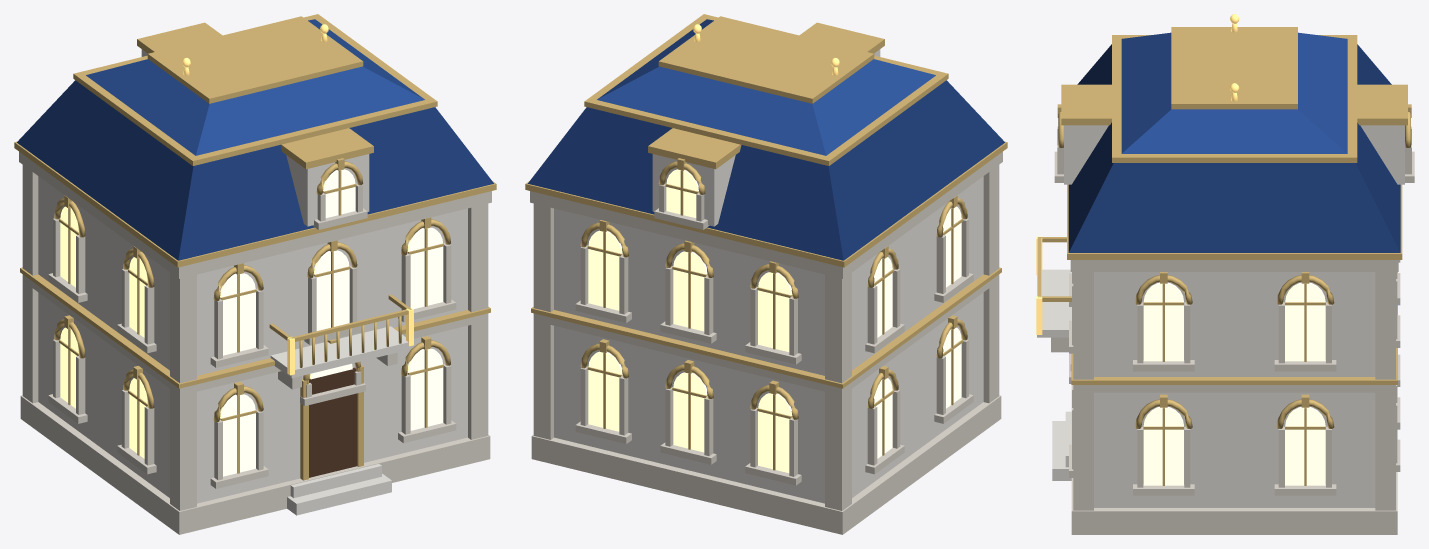
File: city_pavilion.glb
3 views of the same model, side by side, from view 1: azimuth 30°, elevation 25°; view 2: azimuth 150°, elevation 25°; view 3: azimuth 270°, elevation 25° (orthographic). The views are drawn at different scales.
Parts seen in each view (by area): view 1: CityPavilion; view 2: CityPavilion; view 3: CityPavilion.
Boxes of the visible parts, x1,y1,x2,y2 form: CityPavilion: [14, 14, 496, 534]; CityPavilion: [525, 14, 1007, 534]; CityPavilion: [1036, 14, 1414, 534].
Bounding box in the file's own units: 6.8 × 8.1 × 6.8.
